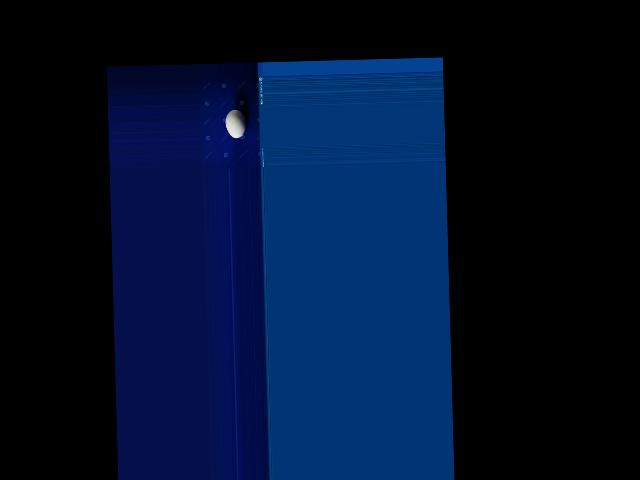egg: (225, 109, 246, 139)
